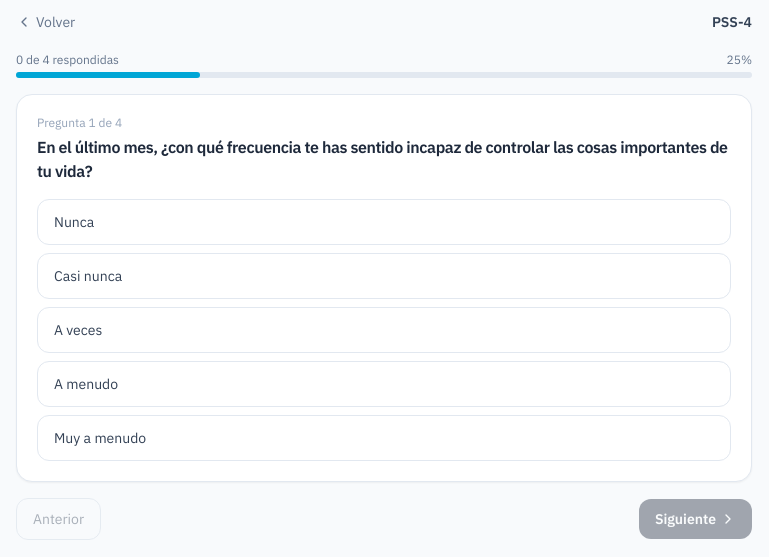
Test: MhAssessmentRunPage (flujo responder → preview → completar → resultado) › exige respuesta para avanzar (evita saltar preguntas)
Expected: the text "Pregunta 1 de 4" is shown, x1=37 y1=115 x2=122 y2=130
Expected: the button "Siguiente" is disabled, x1=639 y1=499 x2=752 y2=539
Click the button "A menudo" at x=86, y=384, box x1=37 y1=361 x2=731 y2=407
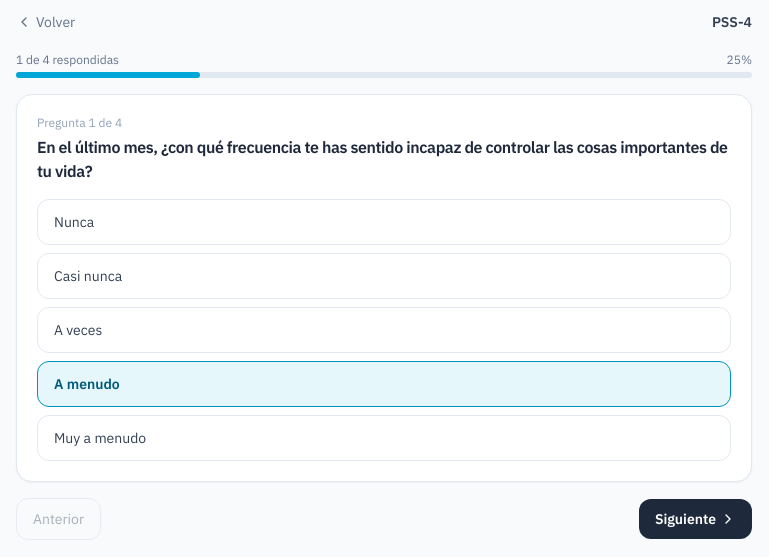
Expected: the button "Siguiente" is enabled, x1=639 y1=499 x2=752 y2=539
